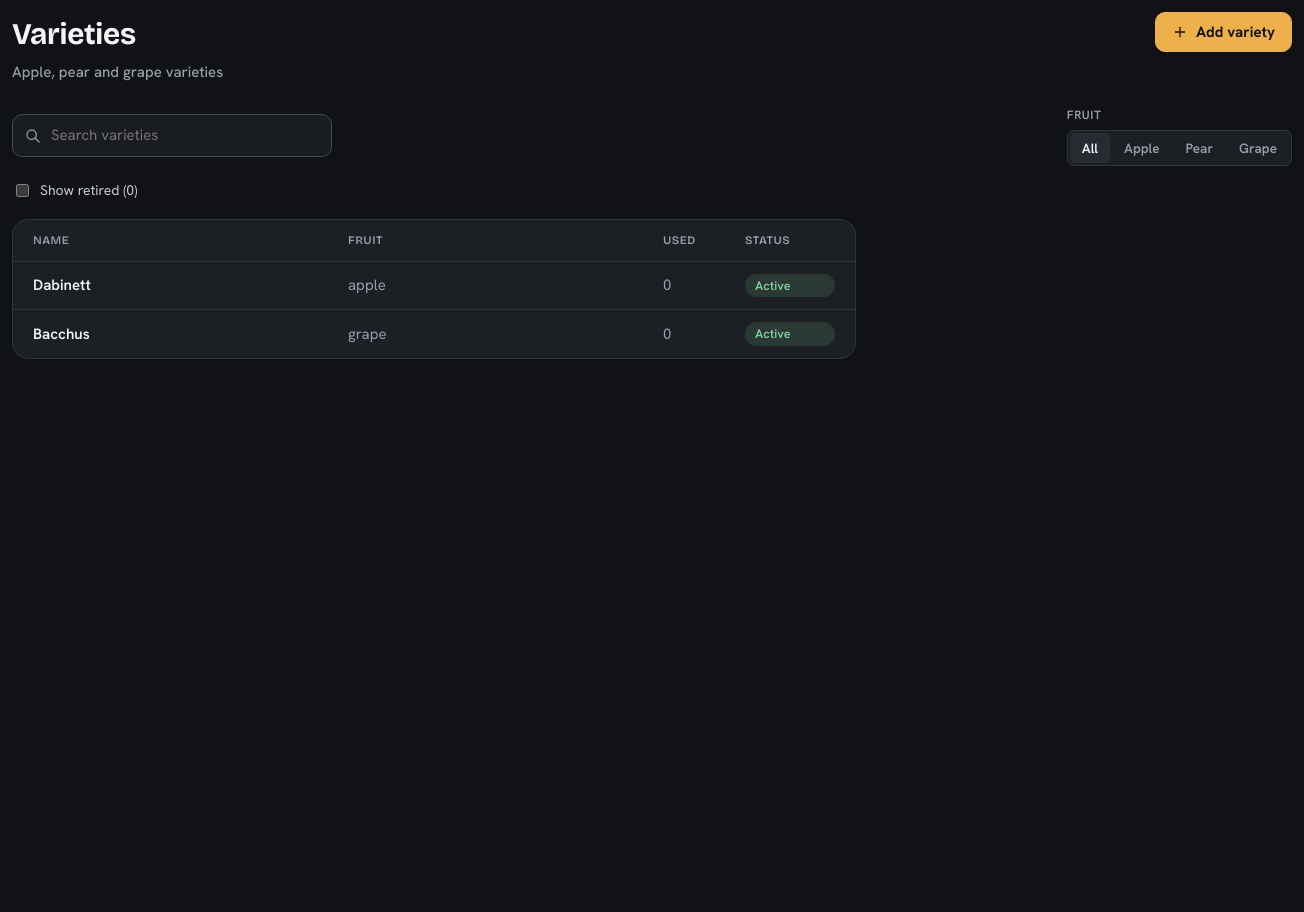
it: ManagementList › warns and blocks save on a duplicate name
The width and height of the screenshot is (1304, 912).
Check: the text "Dabinett" is shown, box [33,275,91,295]
Click the button "Add variety" at (1224, 32), box [1155,12,1292,52]
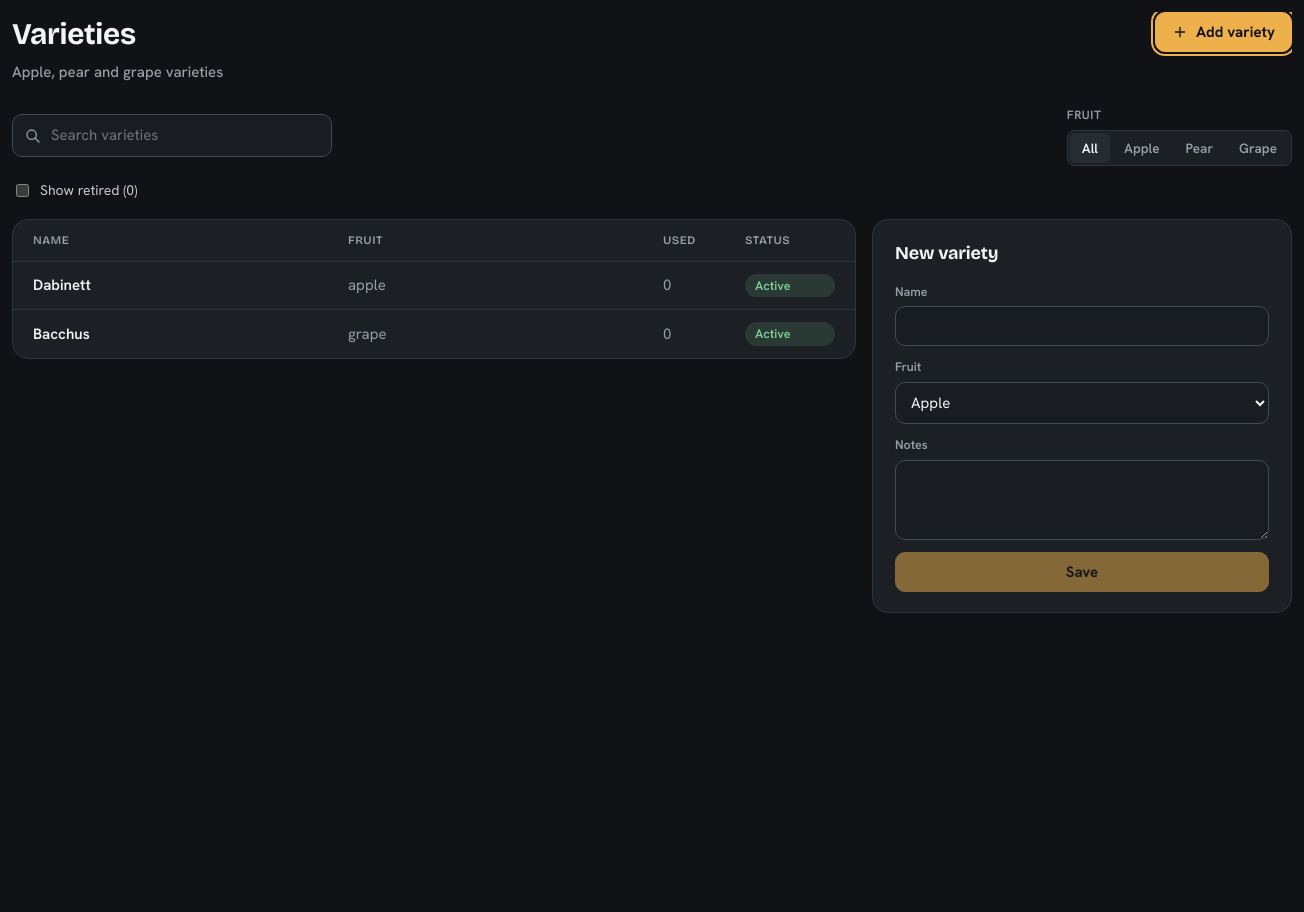
Type "Dabinett" into the field labelled "Name" at (1082, 326), box [895,306,1269,346]
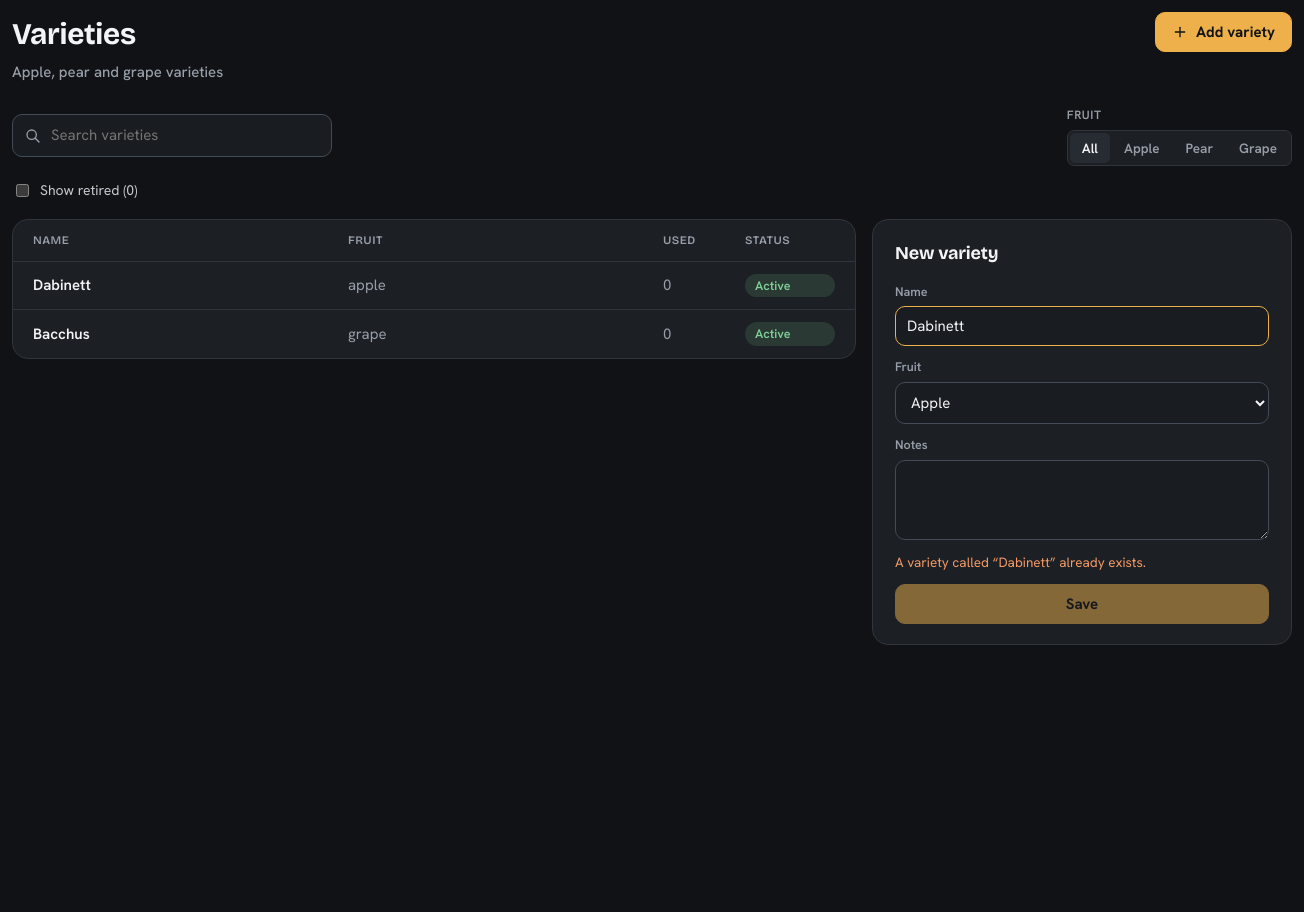
Check: the button "Save" is disabled, box [895,584,1269,624]
Check: the text "A variety called “Dabinett” already exists." is shown, box [895,553,1146,571]
